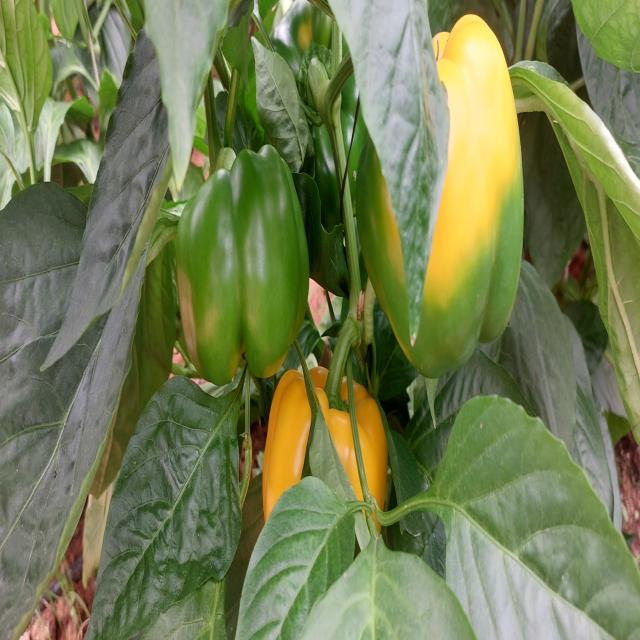Green--Not-ready-to-harvest: (160, 160, 318, 370)
GreenishYellow--Can-be-Harvested: (328, 45, 550, 370)
Yellow-Ready-to-Harvest: (260, 381, 400, 596)
